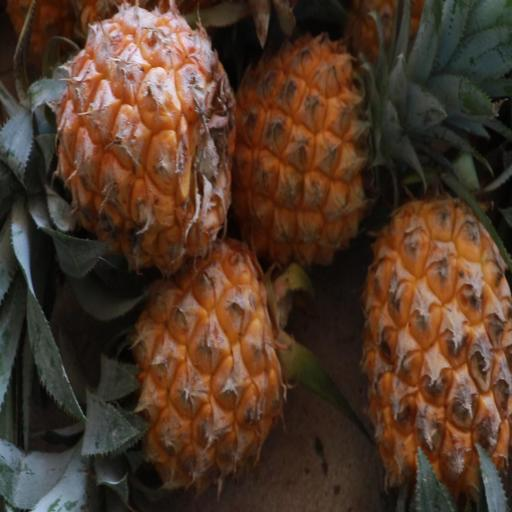Pineapple - v8 v1: (0, 0, 242, 286), (104, 226, 291, 500), (354, 187, 510, 512), (232, 24, 411, 280)
